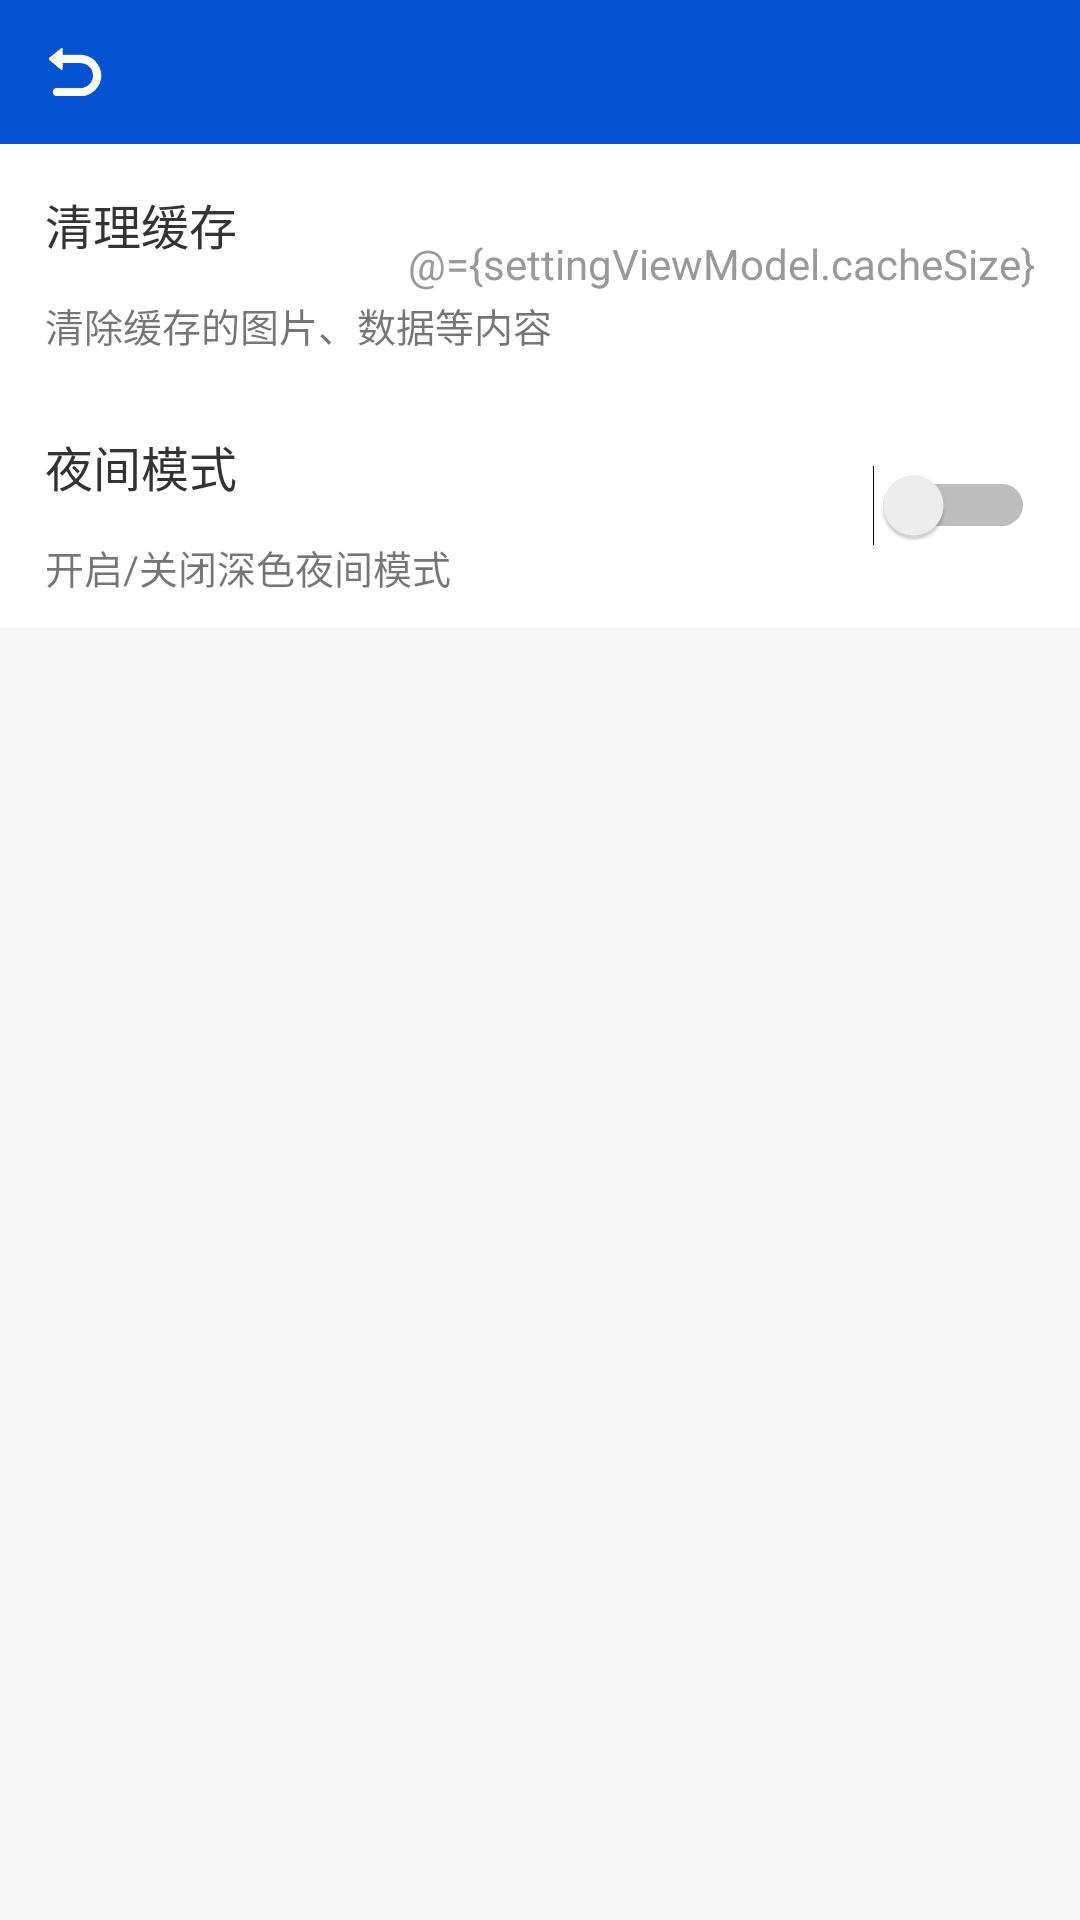

Icon click points for this 1080px x 1920px phone screenshot, format point (x, y):
back arrow: point (75, 72)
